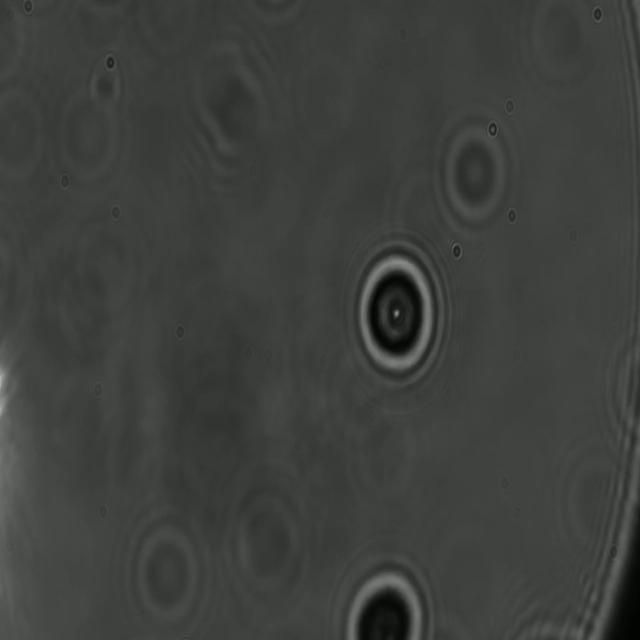LCELL: (345, 235, 449, 390)
